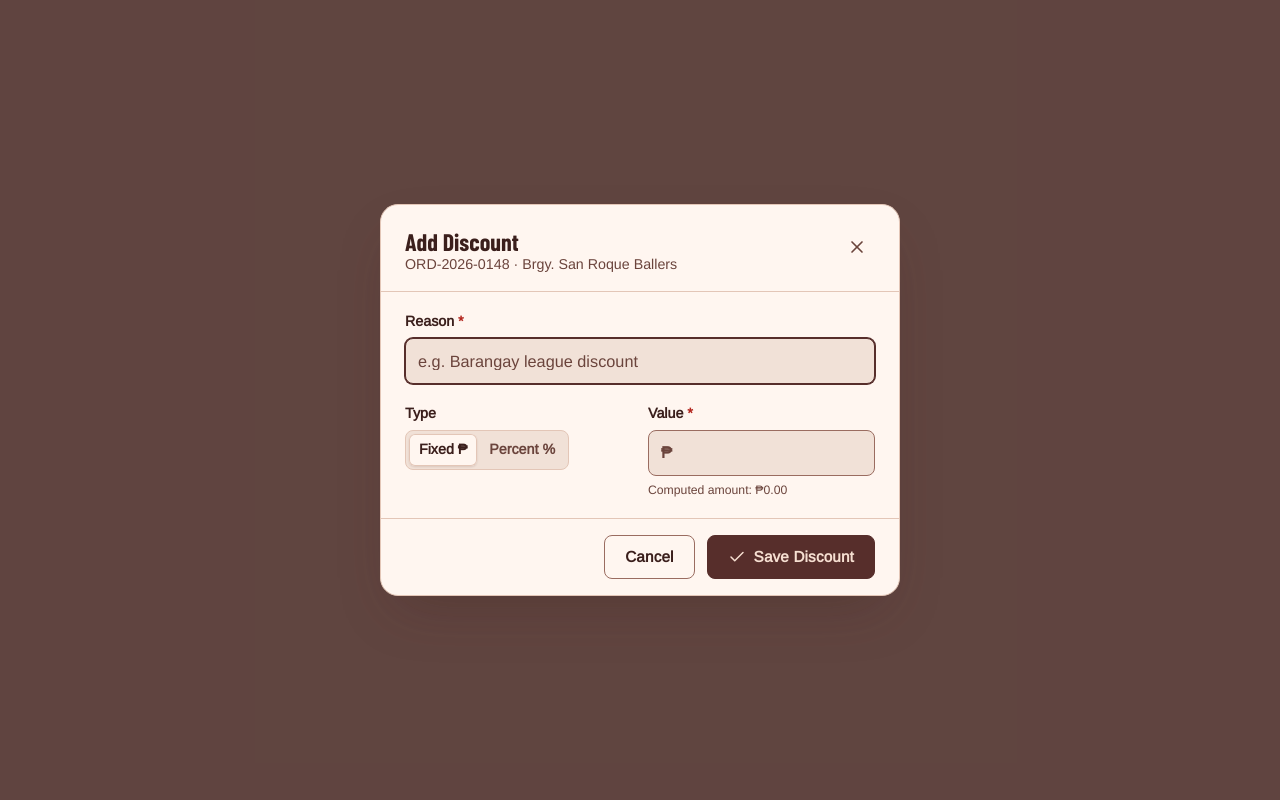
it: Type and the Computed amount preview › shows the % mark on a percent Value and the ₱ mark on a fixed one
expect the text "₱" is shown: met, box left=661, top=444, right=672, bottom=461
Step 1. Click the radio button labelled "Percent %" → coordinates (522, 450), box left=479, top=434, right=565, bottom=466
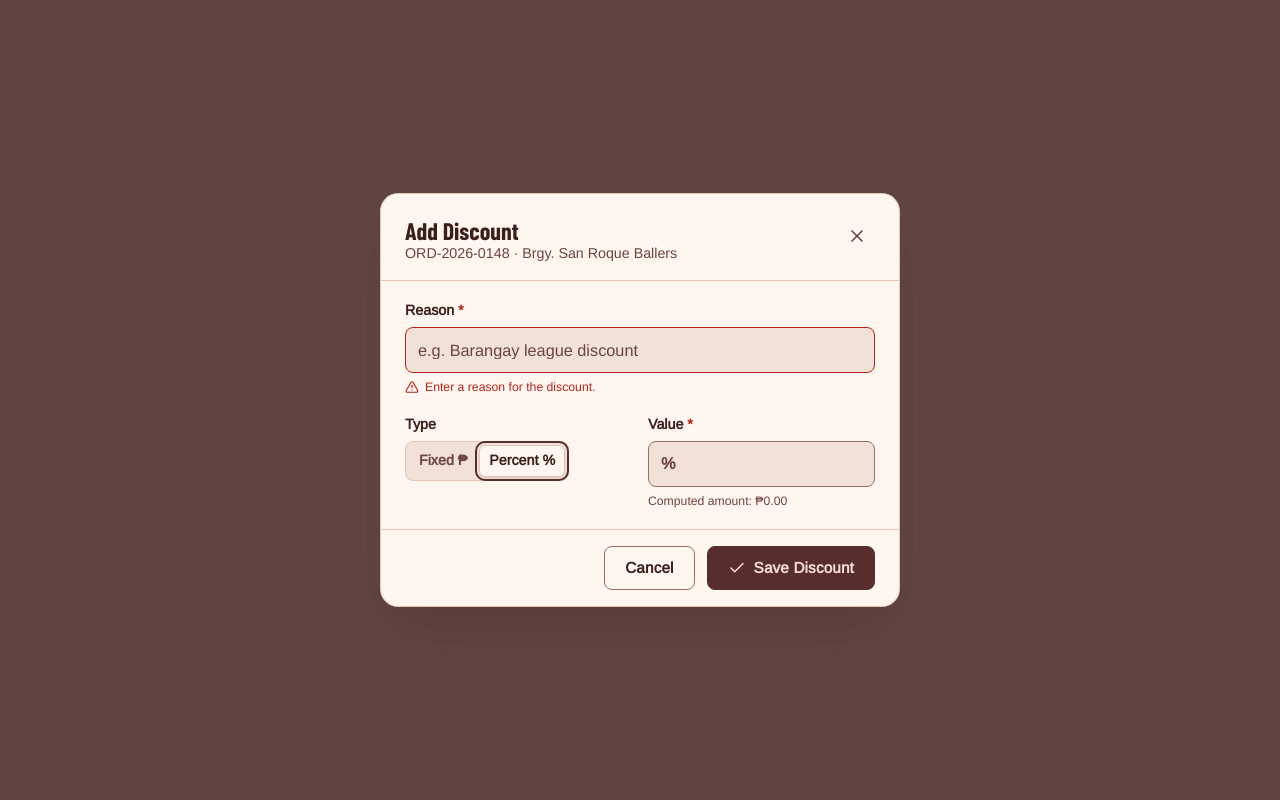
expect the text "%" is shown: met, box left=661, top=455, right=676, bottom=472
